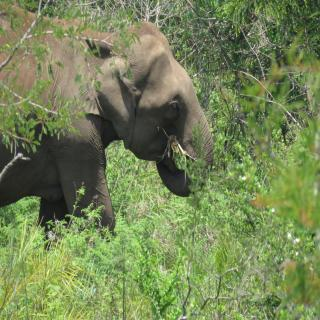Elephant: (2, 0, 220, 240)
